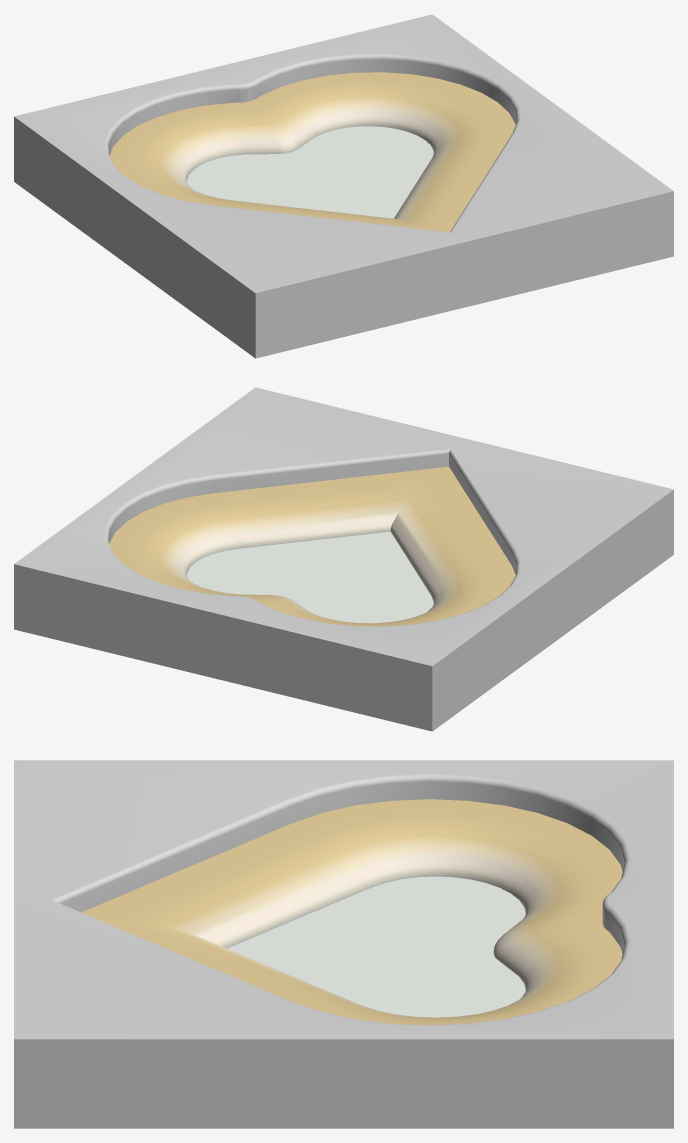
Rendered from island.fbx.
The picture shows the model from 3 angles, top to bottom: view 1: azimuth 30°, elevation 25°; view 2: azimuth 150°, elevation 25°; view 3: azimuth 270°, elevation 25°; orthographic projection. The views are drawn at different scales.
Parts seen in each view (by area): view 1: Cube, Cylinder; view 2: Cube, Cylinder; view 3: Cube, Cylinder.
Part boxes in pixels (x1,y1,x2,y2): Cube: [14, 14, 673, 358]; Cylinder: [109, 72, 515, 232]; Cube: [14, 387, 673, 731]; Cylinder: [109, 466, 515, 626]; Cube: [14, 760, 673, 1128]; Cylinder: [81, 799, 622, 1025].
Bounding box in the file's own units: 1130 × 169 × 1130.
